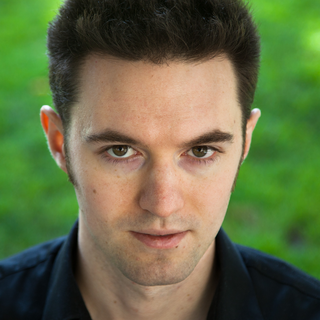eye: (96, 139, 144, 165), (181, 139, 227, 164)
